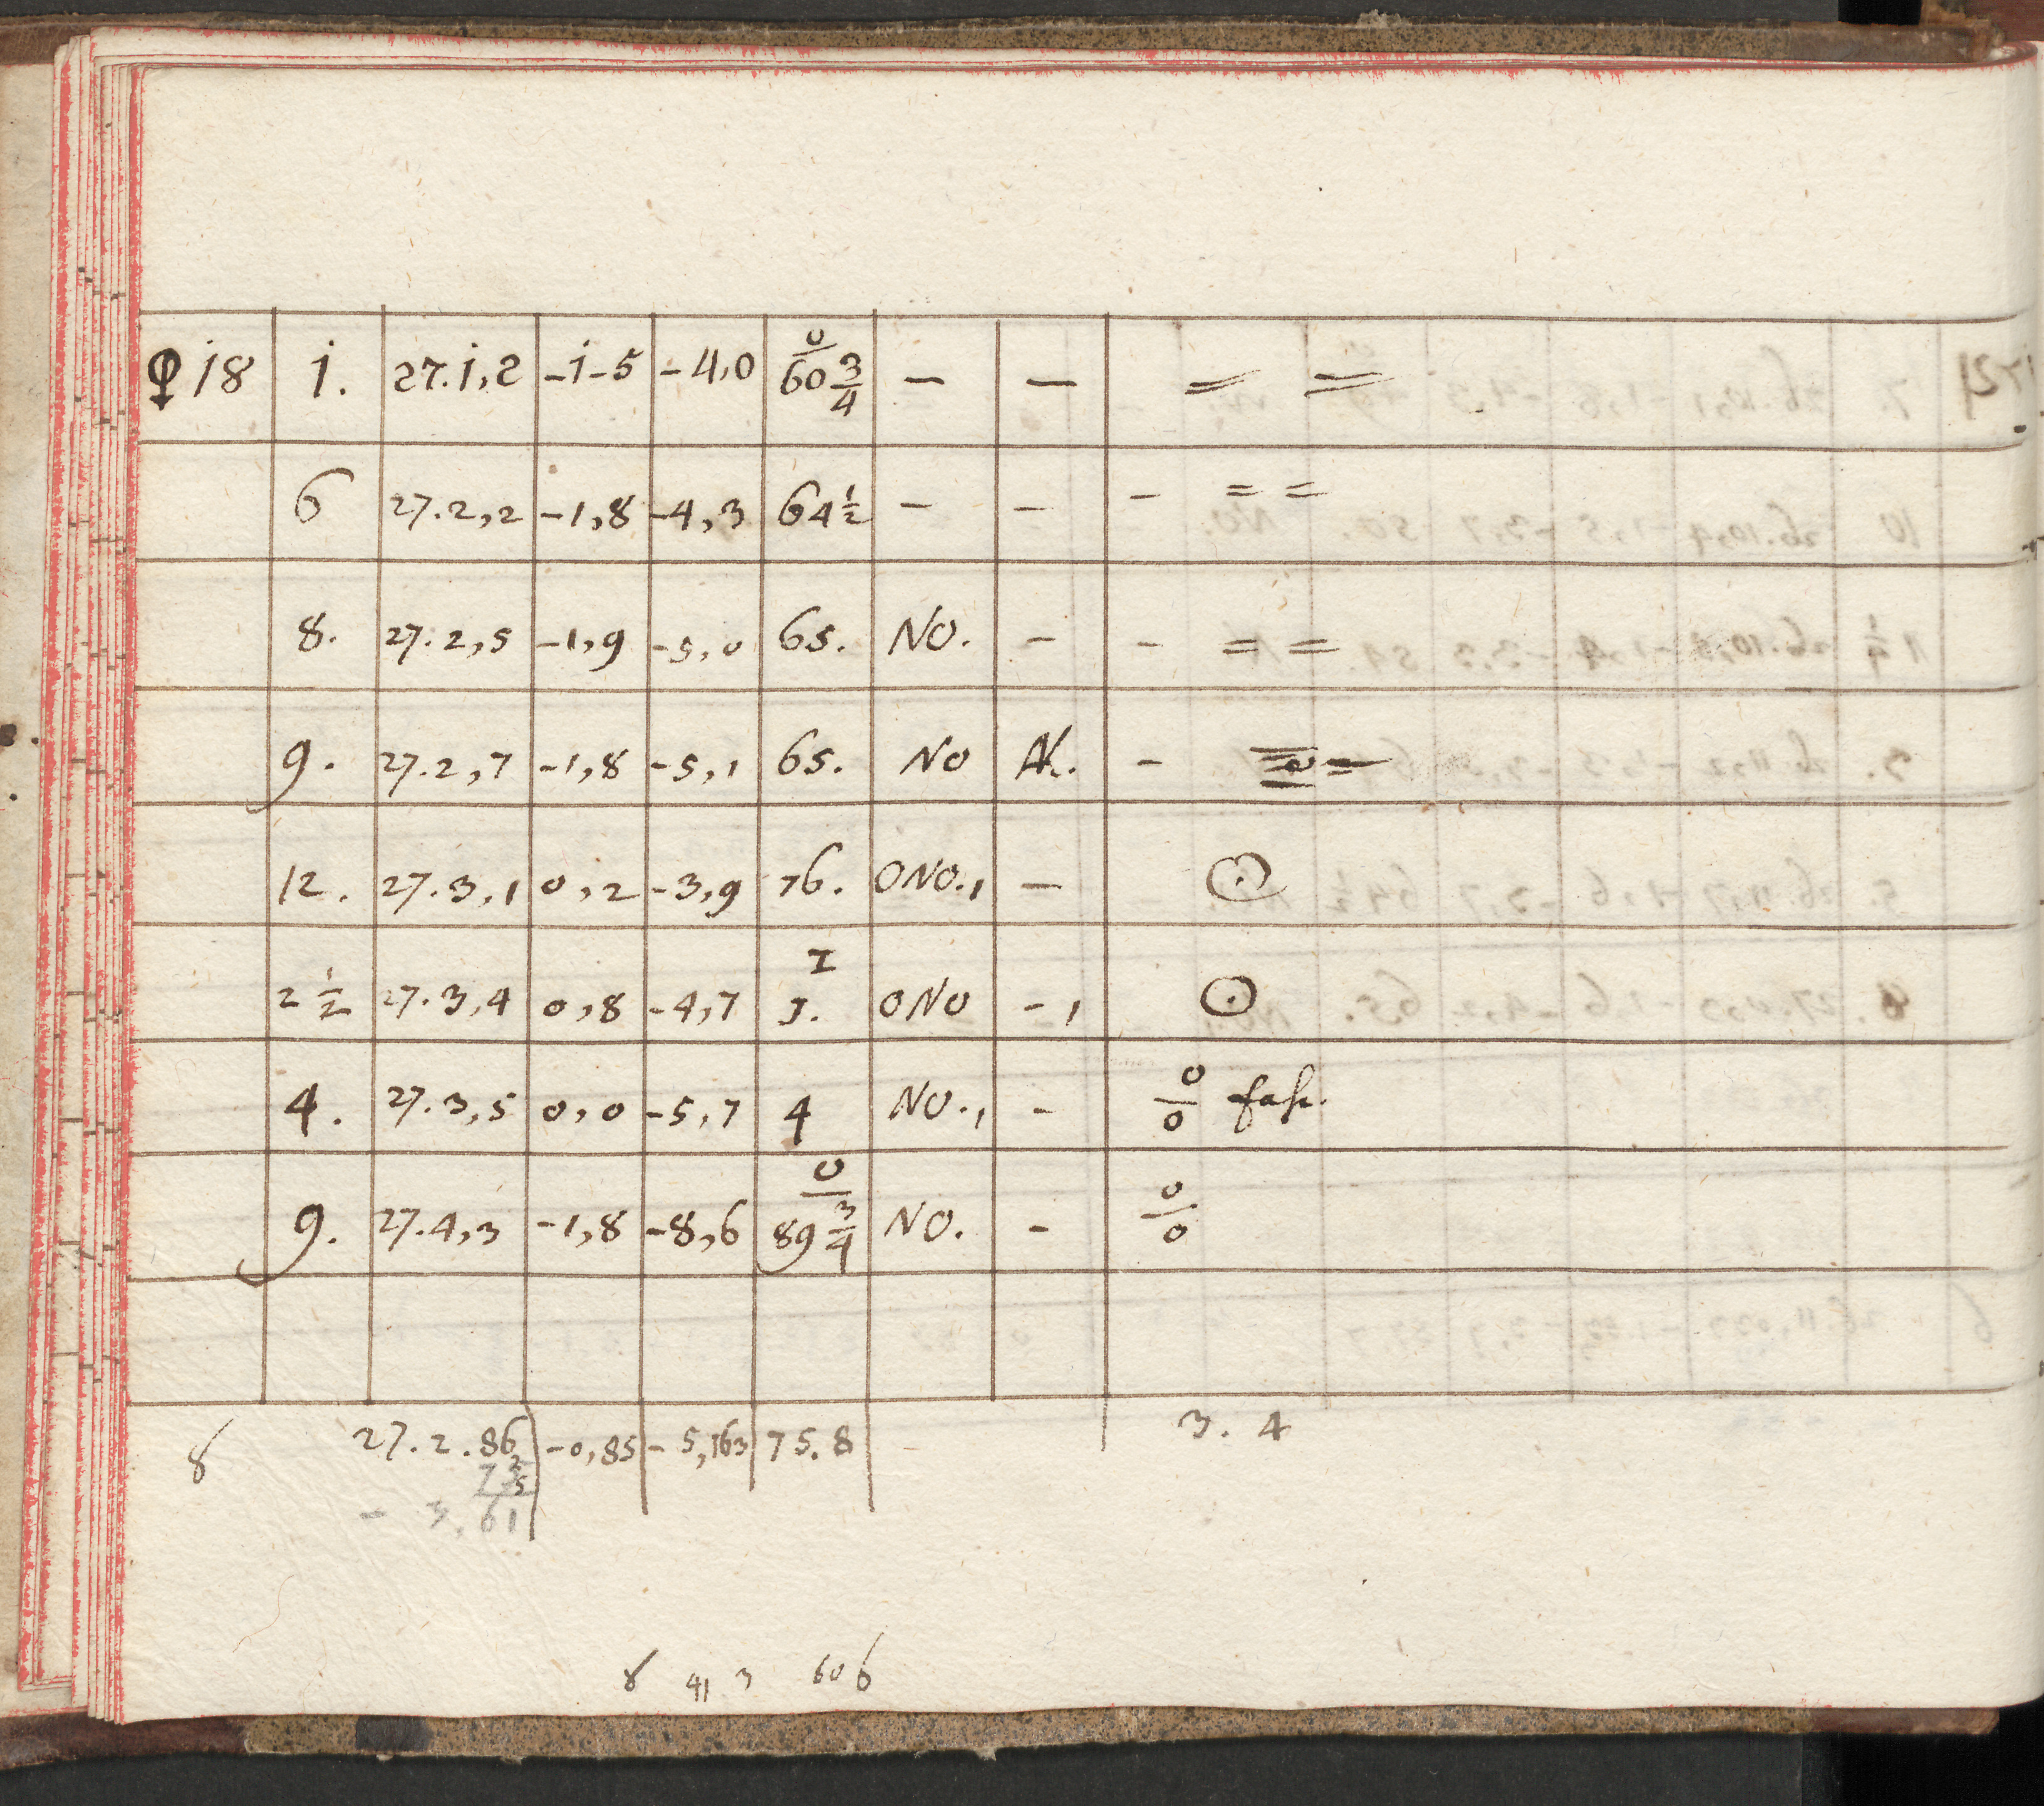bordered: (141, 312, 2032, 1396)
